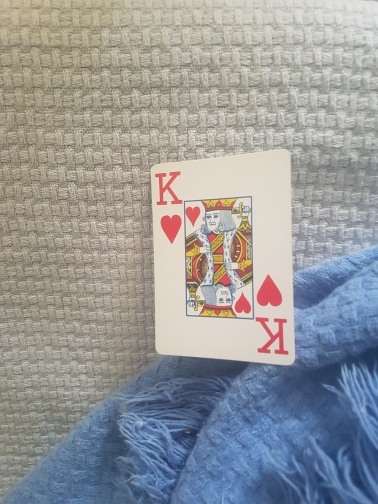king: (150, 150, 299, 367)
